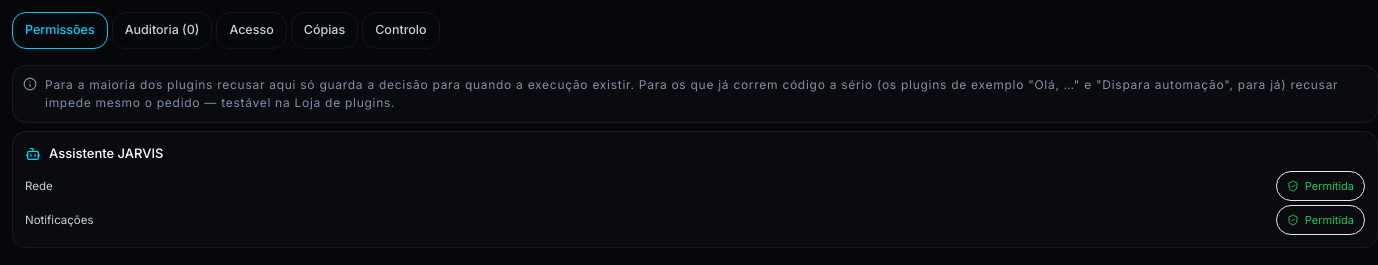
it: auditoria › sem nada, explica-se em vez de ficar em branco
The image size is (1378, 265).
Click the tab "Auditoria (0)": [162, 30] box x1=112 y1=12 x2=212 y2=49
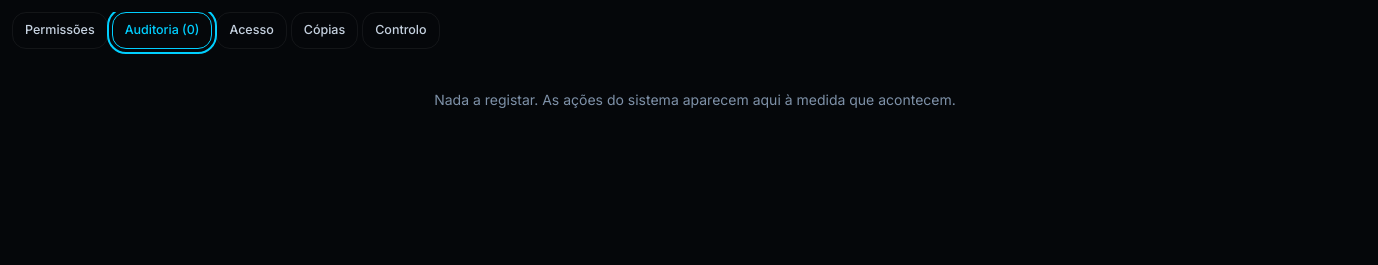
Check: the list item "Nada a registar" is shown, box x1=434 y1=91 x2=956 y2=108
